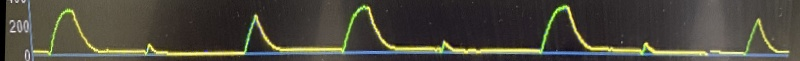normal_volume: (34, 0, 799, 61)
